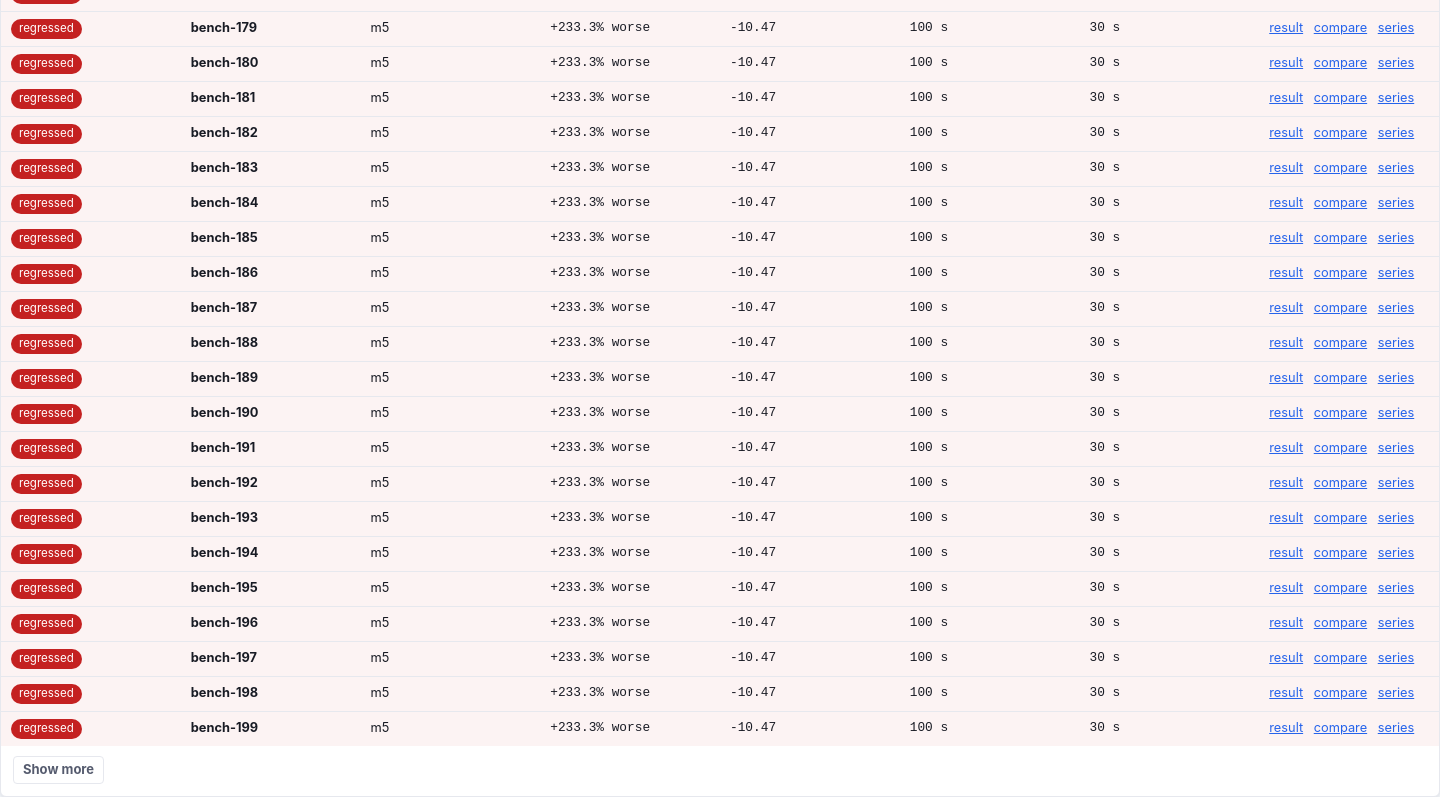
it: CIReportPage › renders comparison rows progressively per run
This screenshot has width=1440, height=797.
(page scrolled)
Expected: the text "bench-199" is shown, [191,720,258,735]
Click the button "Show more" at coordinates (59, 770), box [13,756,104,784]
(page scrolled)
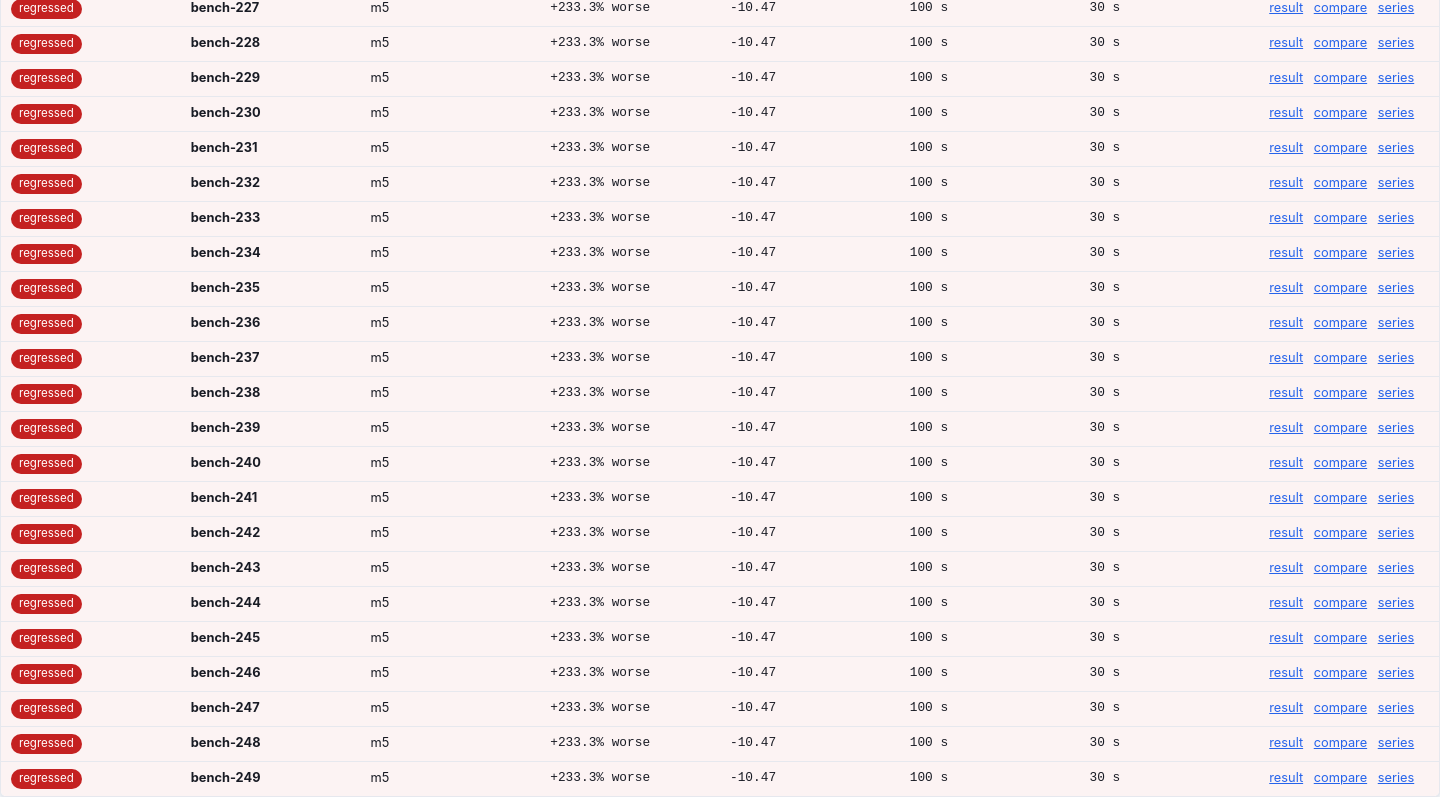
Result: the text "bench-249" is shown at [191,770,260,784]
